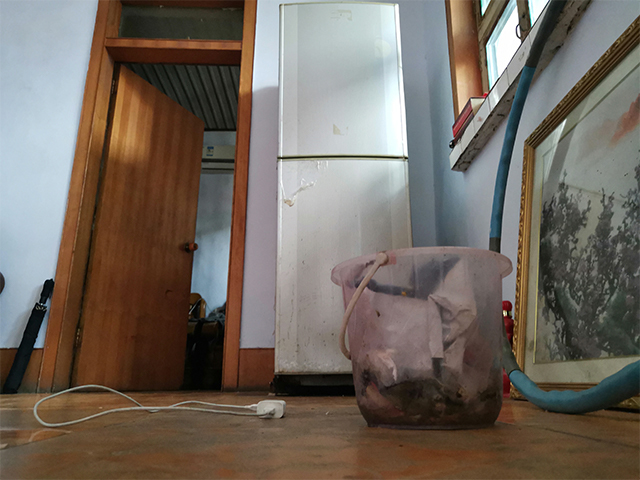trashcan: (329, 243, 517, 431)
wire: (32, 383, 288, 429)
